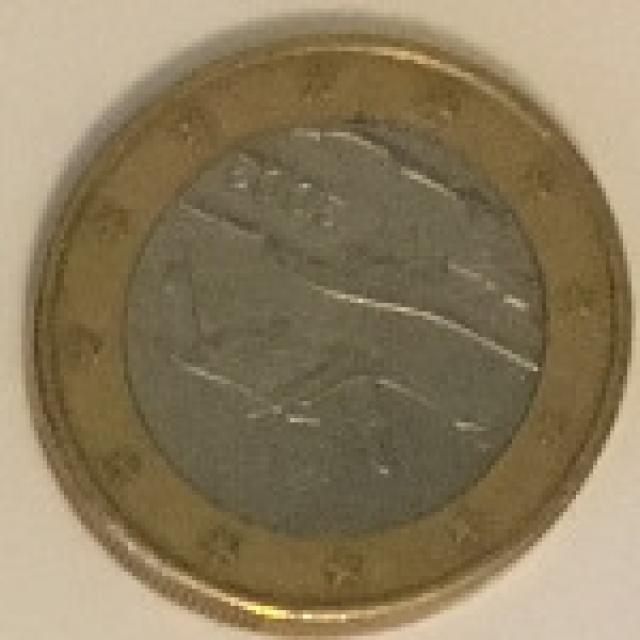1e: (13, 13, 632, 636)
